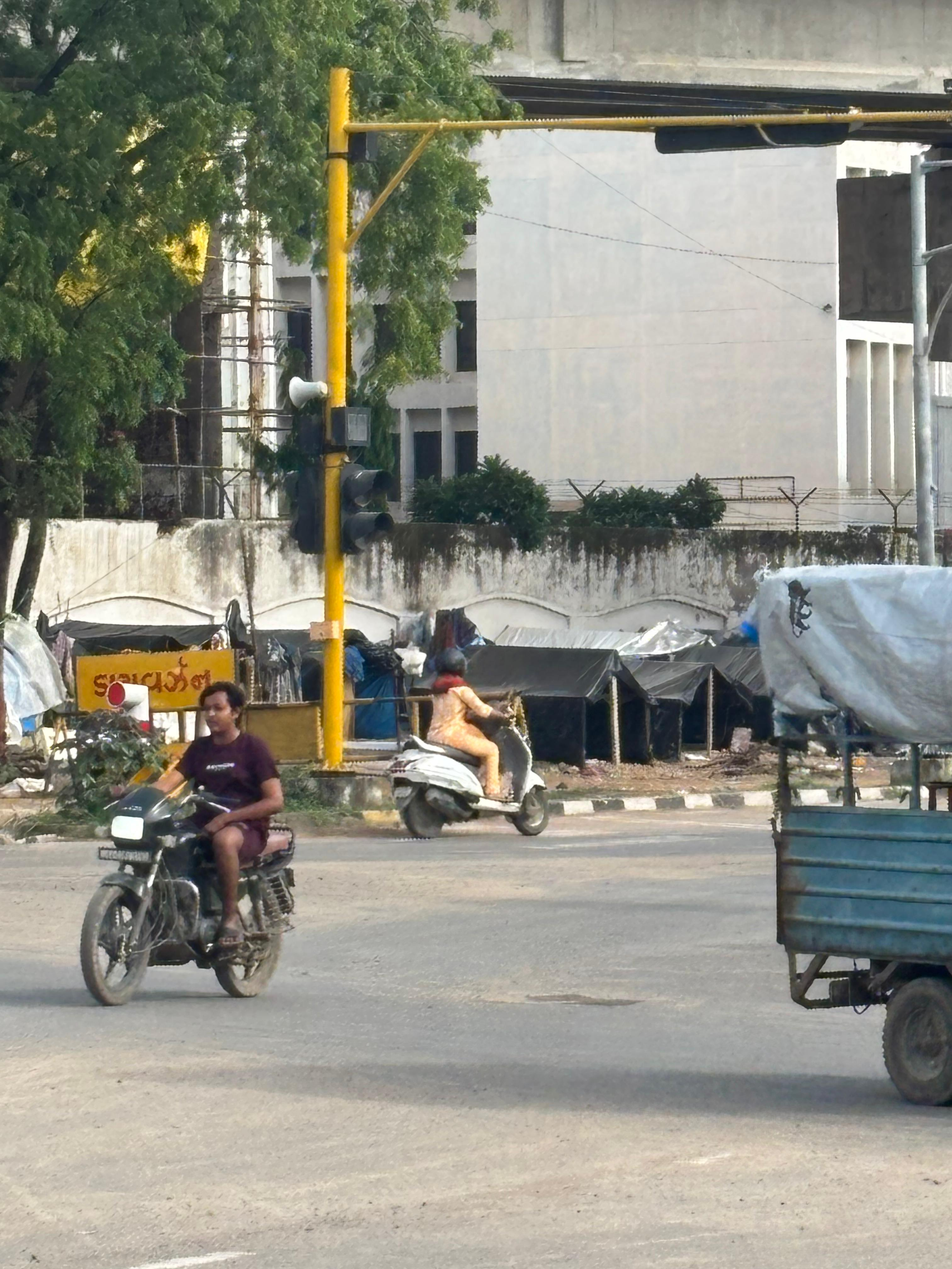BikeWithRider: (66, 667, 313, 1018), (375, 638, 564, 847)
Helmet: (425, 638, 476, 689)
NoHelmet: (187, 673, 254, 743)
